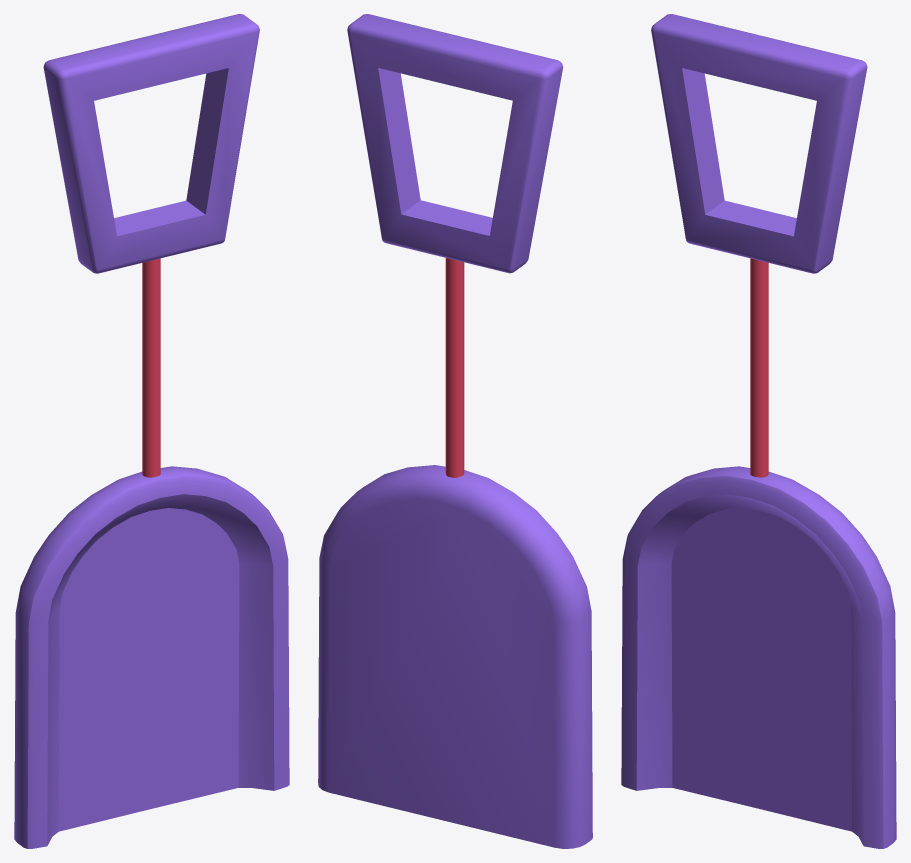
Rendered from Shovel.fbx.
3 renders of one model, left to right at view 1: azimuth 30°, elevation 25°; view 2: azimuth 150°, elevation 25°; view 3: azimuth 330°, elevation 25°, orthographic.
Parts seen in each view (by area): view 1: Shovel; view 2: Shovel; view 3: Shovel.
Part boxes in pixels (box(x1,y1,x2,y2)): Shovel: box(14, 14, 289, 848); Shovel: box(318, 14, 592, 848); Shovel: box(621, 14, 896, 848).
Size of the model in its own units: 12.61 by 35 by 1.89.
